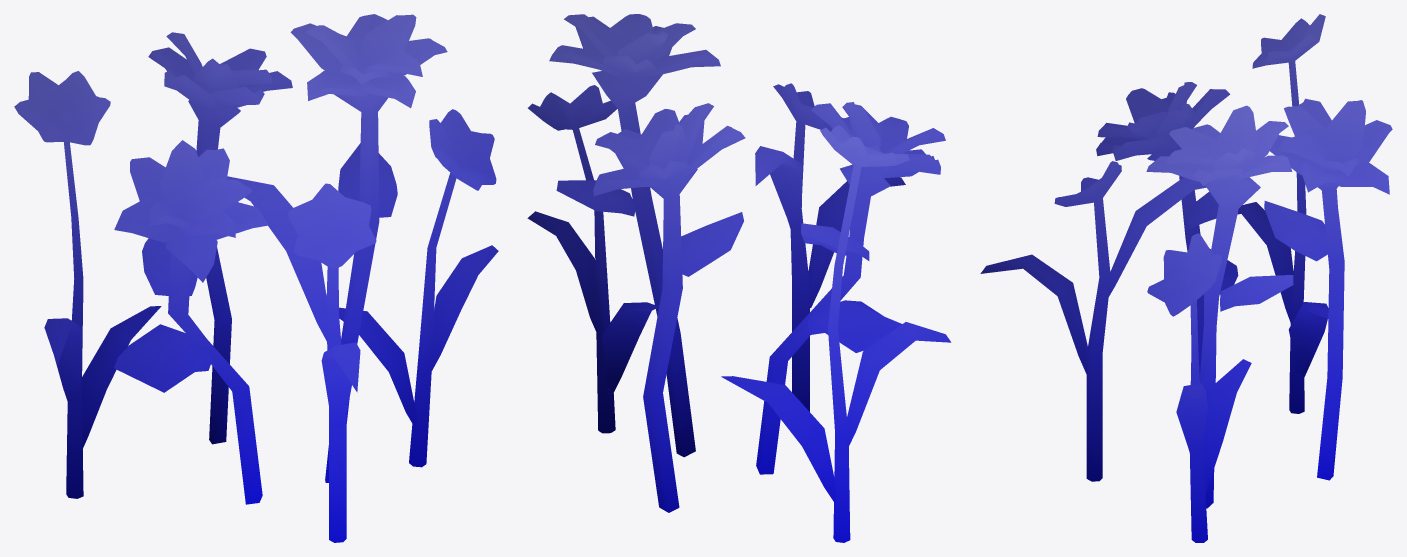
The model's file is SM_Env_Wildflowers_01.fbx.
The picture shows the model from 3 angles, left to right: view 1: azimuth 30°, elevation 25°; view 2: azimuth 150°, elevation 25°; view 3: azimuth 270°, elevation 25°; orthographic projection. The views are drawn at different scales.
Parts seen in each view (by area): view 1: SM_Env_Wildflowers_01_LOD0; view 2: SM_Env_Wildflowers_01_LOD0; view 3: SM_Env_Wildflowers_01_LOD0.
Part boxes in pixels (<box>): SM_Env_Wildflowers_01_LOD0: <box>14,14,498,542</box>; SM_Env_Wildflowers_01_LOD0: <box>527,14,951,542</box>; SM_Env_Wildflowers_01_LOD0: <box>980,14,1392,542</box>.
Size of what is drawn, in the model's own units: 68.23 by 65.78 by 61.48.
